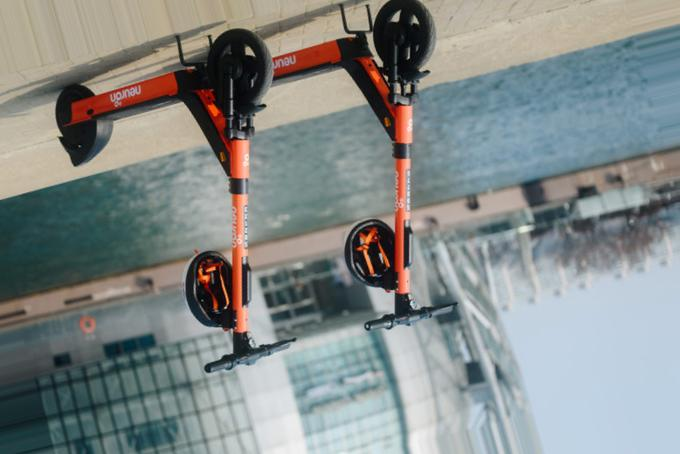scooter: (188, 1, 460, 334), (52, 28, 297, 375)
